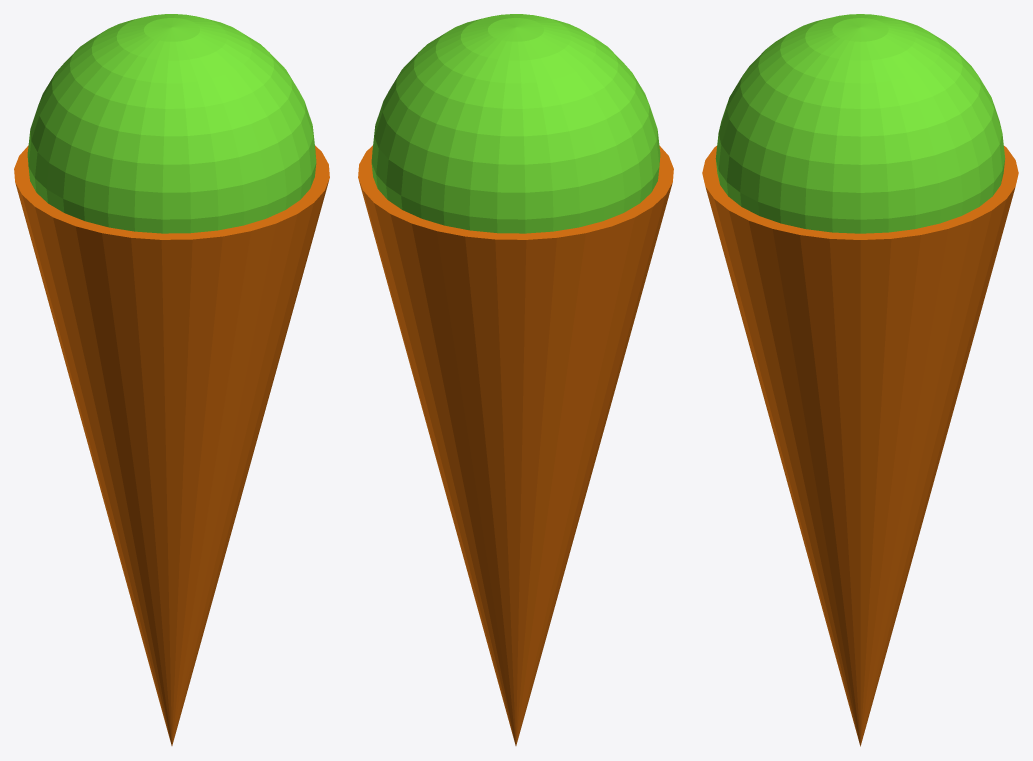
The model's file is icecream2.gltf.
The picture shows the model from 3 angles, left to right: view 1: azimuth 30°, elevation 25°; view 2: azimuth 150°, elevation 25°; view 3: azimuth 270°, elevation 25°; orthographic projection.
Parts seen in each view (by area): view 1: Cone, Sphere; view 2: Cone, Sphere; view 3: Cone, Sphere.
Part boxes in pixels (x1,y1,x2,y2): Cone: (14,145,329,745); Sphere: (27,14,316,233); Cone: (358,145,673,745); Sphere: (371,14,660,233); Cone: (702,146,1018,746); Sphere: (715,14,1005,233).
Bounding box in the file's own units: 1 × 2.51 × 1.
